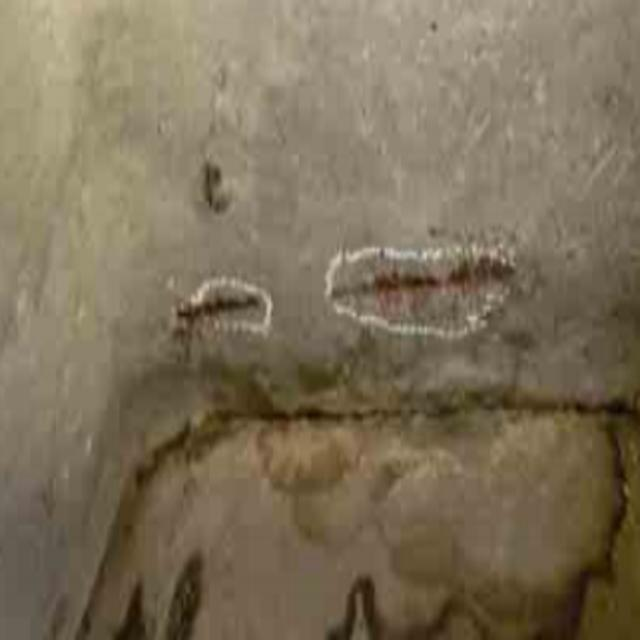spalling: (327, 235, 540, 348), (166, 266, 274, 338)
